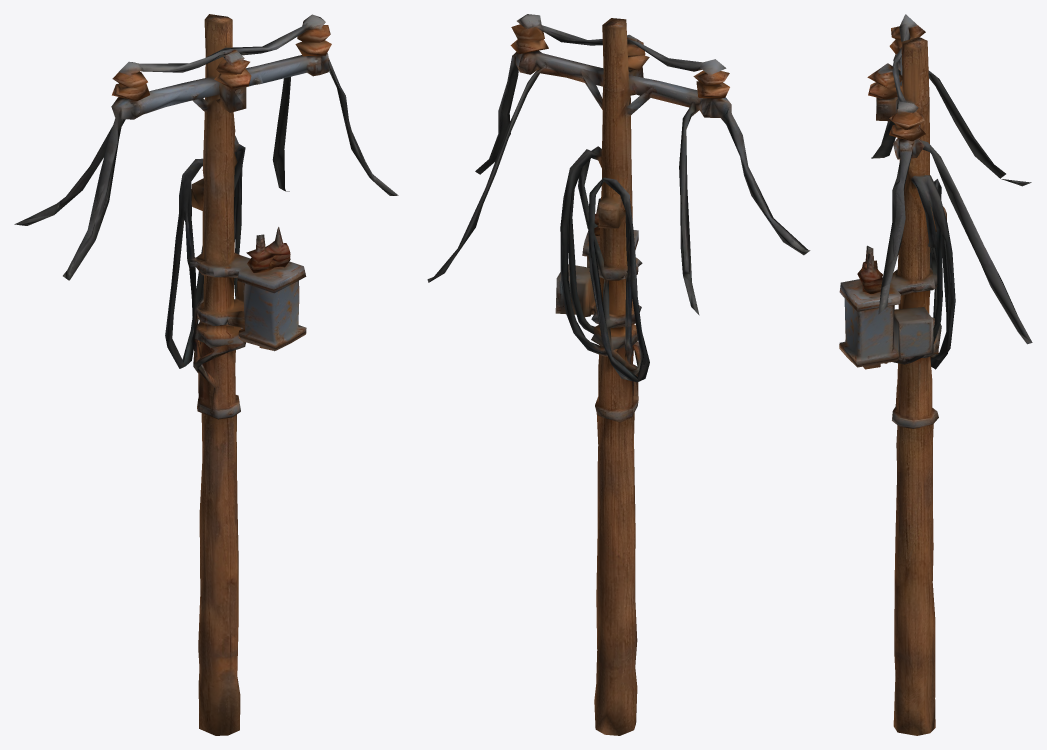
File: pole.glb
The picture shows the model from 3 angles, left to right: view 1: azimuth 30°, elevation 25°; view 2: azimuth 150°, elevation 25°; view 3: azimuth 270°, elevation 25°; orthographic projection. The views are drawn at different scales.
Parts seen in each view (by area): view 1: tripo_node_ac50299f-4e6a-4793-9213-c26f554a567a; view 2: tripo_node_ac50299f-4e6a-4793-9213-c26f554a567a; view 3: tripo_node_ac50299f-4e6a-4793-9213-c26f554a567a.
Part boxes in pixels (left/top/right/bottom): tripo_node_ac50299f-4e6a-4793-9213-c26f554a567a: left=14, top=14, right=398, bottom=735; tripo_node_ac50299f-4e6a-4793-9213-c26f554a567a: left=427, top=14, right=810, bottom=735; tripo_node_ac50299f-4e6a-4793-9213-c26f554a567a: left=839, top=14, right=1032, bottom=735.
Size of the model in its own units: 0.4927 by 1 by 0.2558.
Materials: 1 (1 with a texture image).
